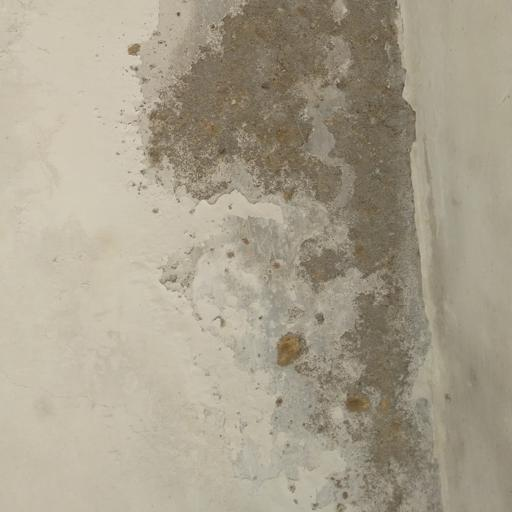peeling: (134, 0, 512, 512)
